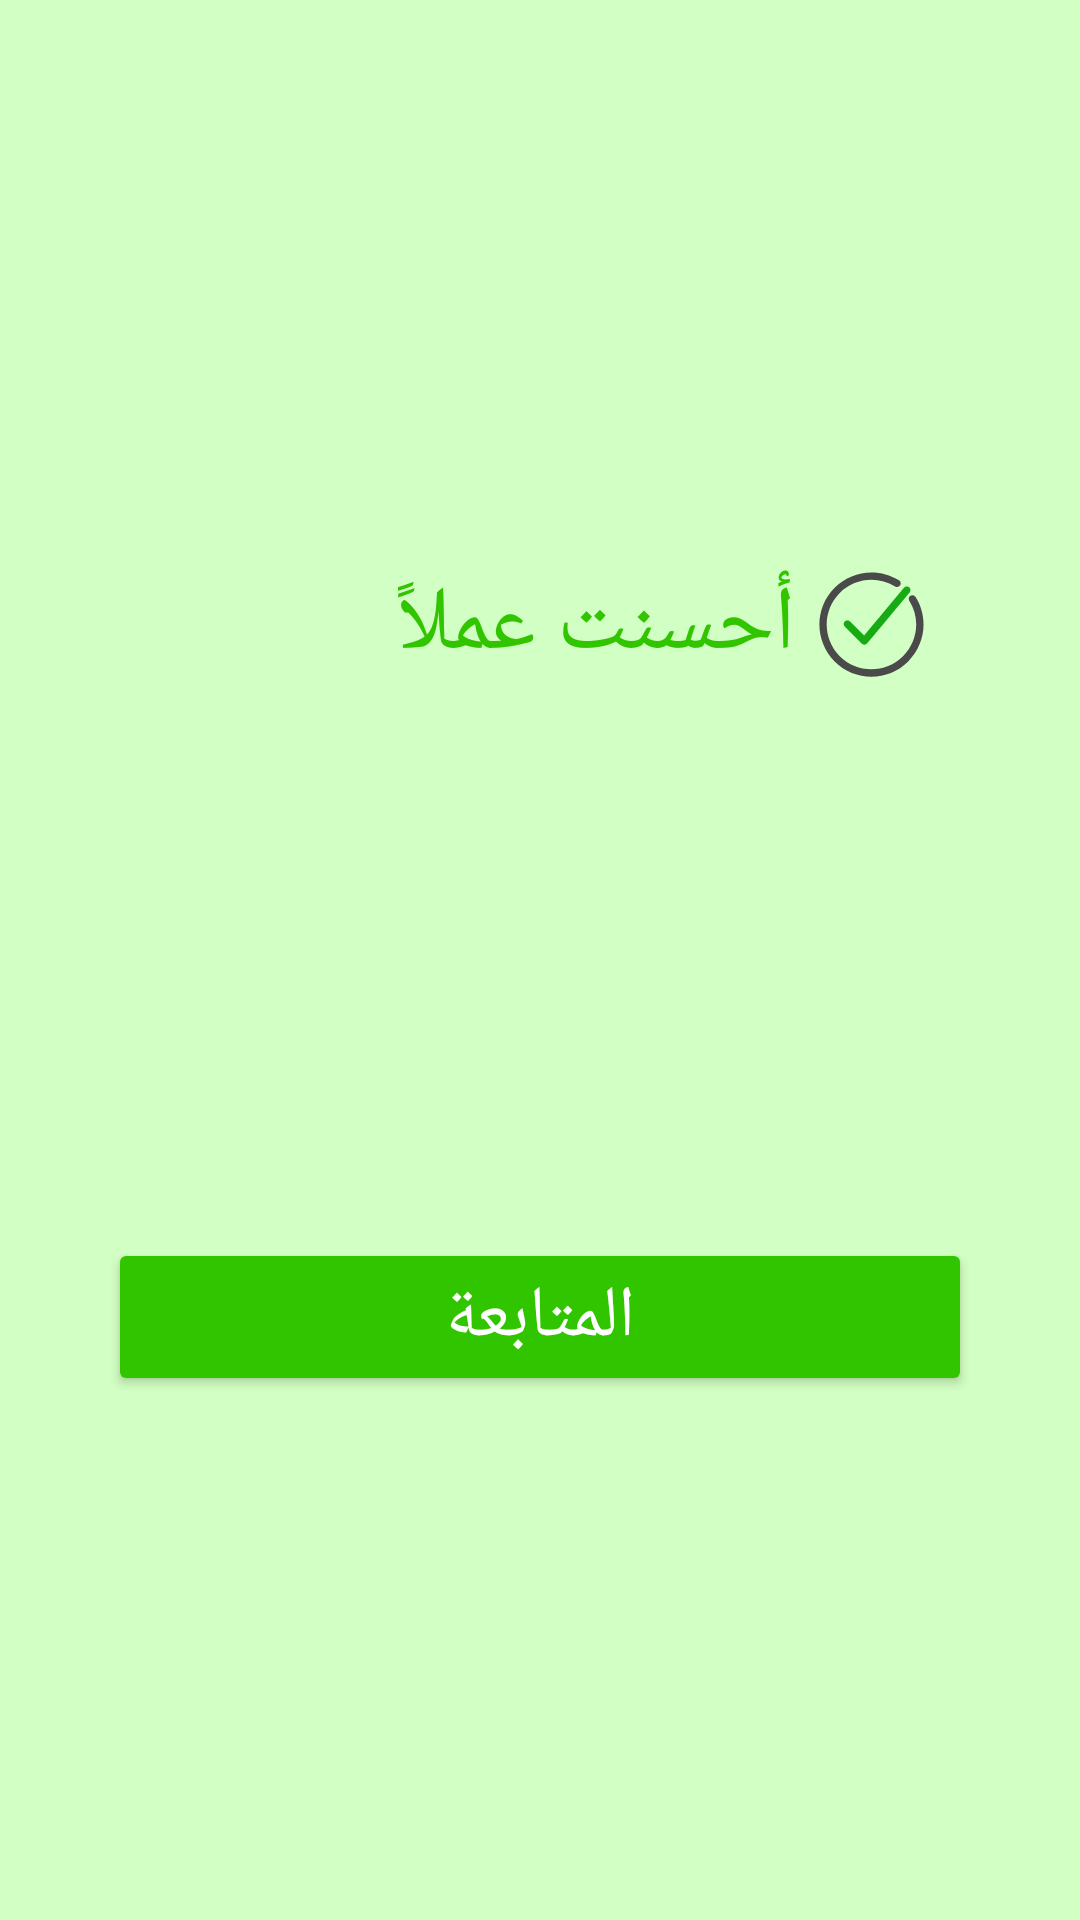

Locate icon controls on the screen. Image size 1080px×1920px, boxes as [x1, y1, x2, y2].
correct: [819, 572, 924, 677]
